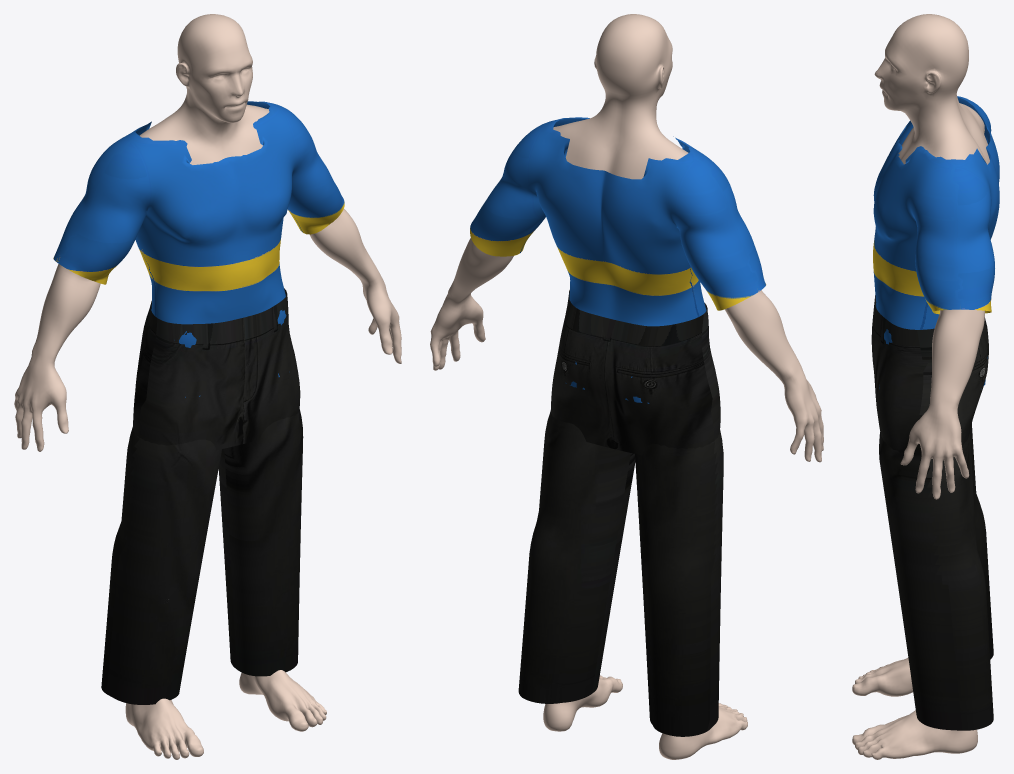
3 views of the same model, side by side, from view 1: azimuth 30°, elevation 25°; view 2: azimuth 150°, elevation 25°; view 3: azimuth 270°, elevation 25° (orthographic).
Visible parts, largest first — view 1: garment.pants, garment.tshirt, human; view 2: garment.pants, garment.tshirt, human; view 3: garment.pants, human, garment.tshirt.
Part boxes in pixels (x1=…): garment.pants: x1=101, y1=288, x2=303, y2=704; garment.tshirt: x1=53, y1=101, x2=344, y2=397; human: x1=14, y1=14, x2=401, y2=759; garment.pants: x1=518, y1=290, x2=723, y2=736; garment.tshirt: x1=470, y1=117, x2=766, y2=403; human: x1=430, y1=14, x2=823, y2=759; garment.pants: x1=871, y1=295, x2=993, y2=730; human: x1=852, y1=14, x2=989, y2=759; garment.tshirt: x1=873, y1=96, x2=999, y2=389.
Size of the model in its own units: 1.01 by 1.8 by 0.3423.
Materials: 3 (2 with a texture image).
